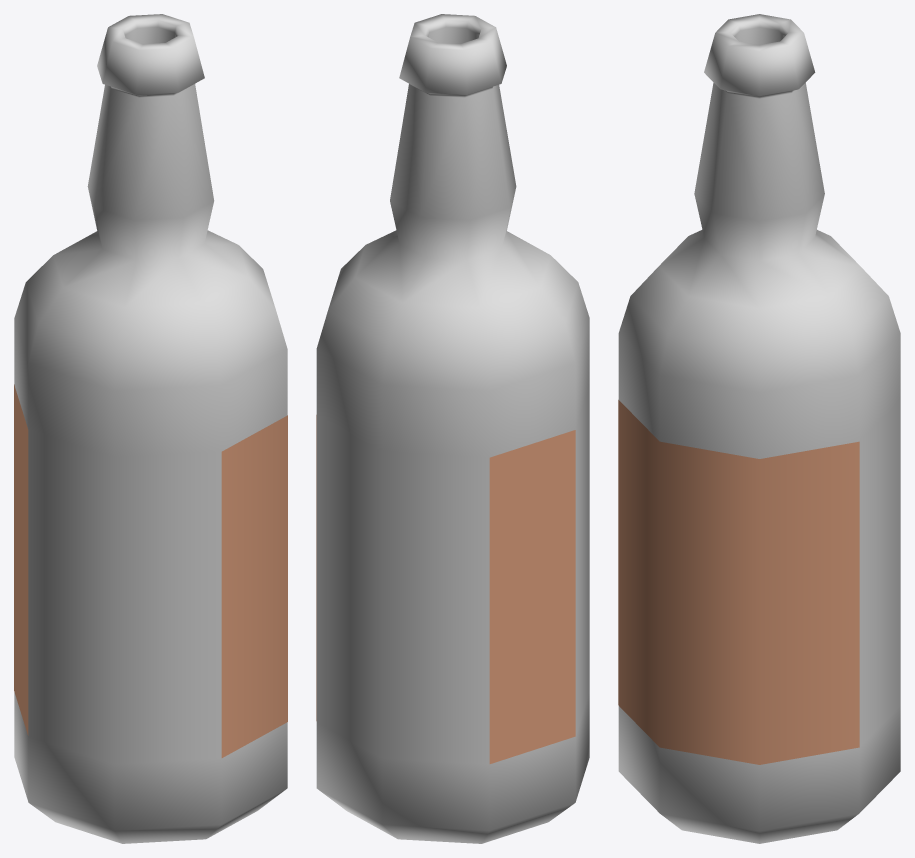
Rendered from Bottle_Full.fbx.
The picture shows the model from 3 angles, left to right: view 1: azimuth 30°, elevation 25°; view 2: azimuth 150°, elevation 25°; view 3: azimuth 270°, elevation 25°; orthographic projection.
Visible parts, largest first — view 1: Bottle_Full; view 2: Bottle_Full; view 3: Bottle_Full.
Boxes of the visible parts, <box> form: Bottle_Full: <box>14,14,287,843</box>; Bottle_Full: <box>316,14,589,843</box>; Bottle_Full: <box>618,14,900,843</box>.
Bounding box in the file's own units: 7.11 × 21.22 × 7.1.
